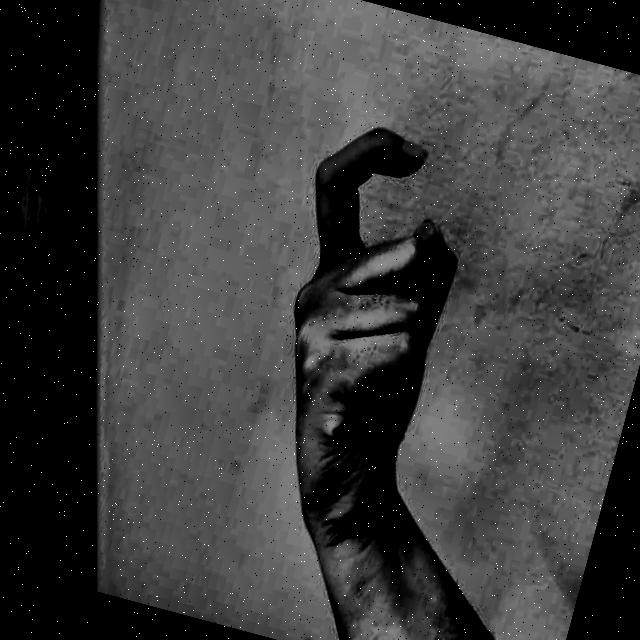E: (190, 55, 582, 572)
